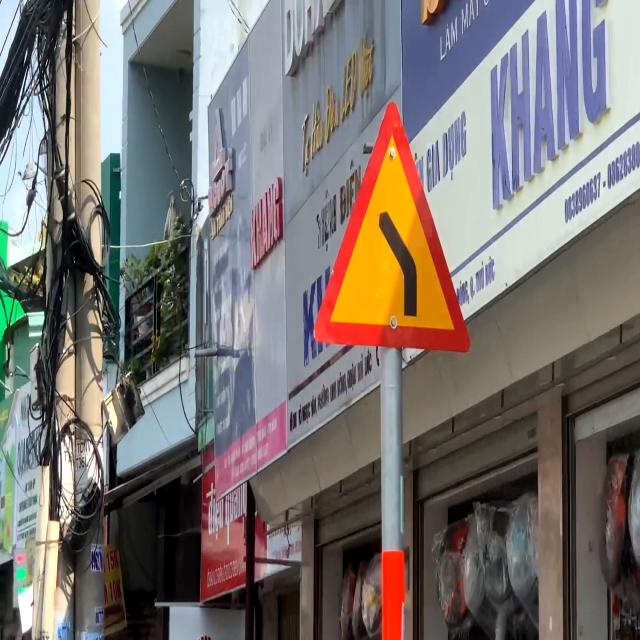W.201a: (312, 98, 472, 356)
